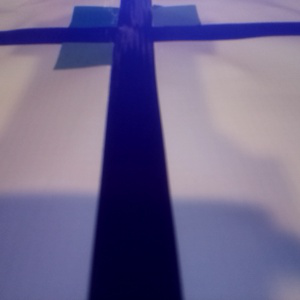bottom_left: (54, 27, 153, 69)
top_left: (70, 5, 150, 40)
top_right: (120, 4, 198, 39)
